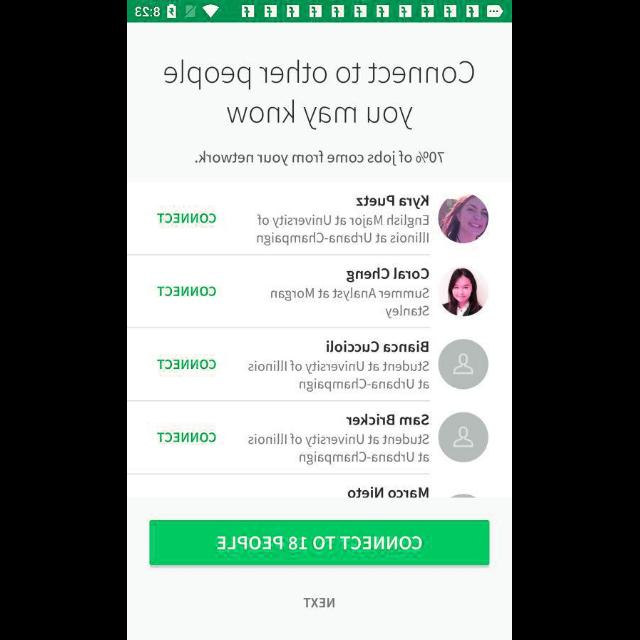icon: (438, 412, 489, 462), (438, 340, 489, 390)
image: (438, 192, 489, 244), (439, 266, 488, 318)
text: (164, 60, 476, 132), (248, 433, 430, 465), (248, 360, 430, 392), (257, 214, 429, 246), (271, 288, 429, 320), (196, 151, 444, 167), (327, 341, 429, 353), (347, 268, 429, 282), (357, 195, 429, 209), (347, 414, 429, 426), (348, 487, 429, 499), (158, 213, 216, 224), (158, 432, 218, 442), (158, 359, 216, 369), (158, 286, 216, 296), (303, 598, 335, 608)
textbutton: (150, 520, 490, 566)
uppertaskbar: (128, 1, 512, 23)
